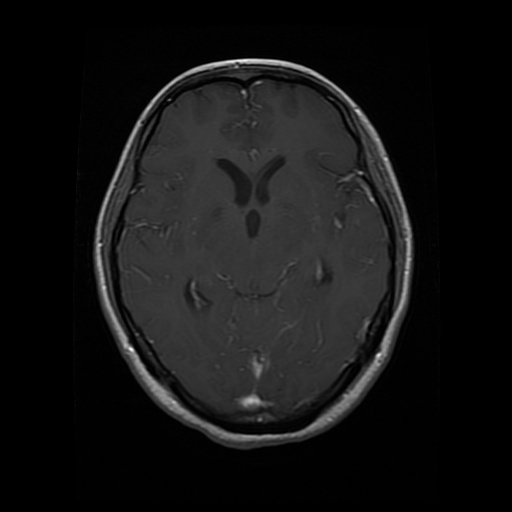glioma: (183, 275, 214, 316)
